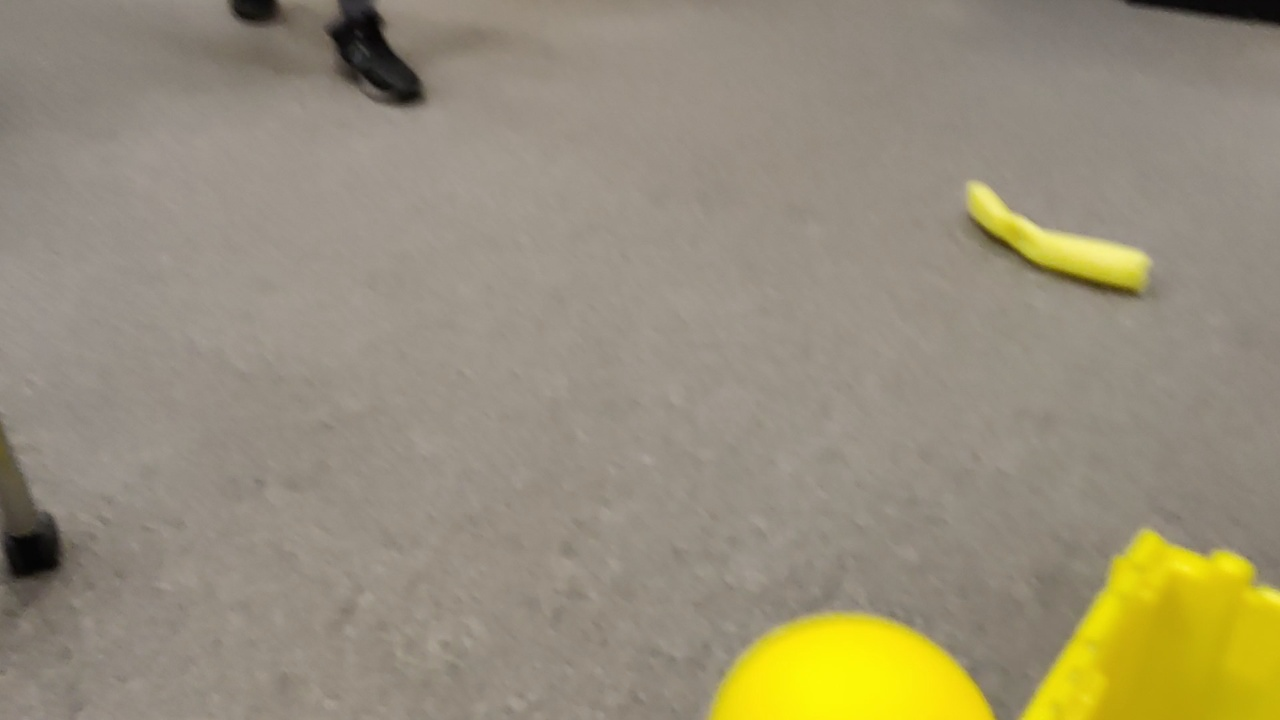Ball: (707, 611, 996, 720)
